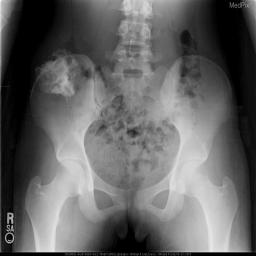cancer: (32, 52, 91, 99)
